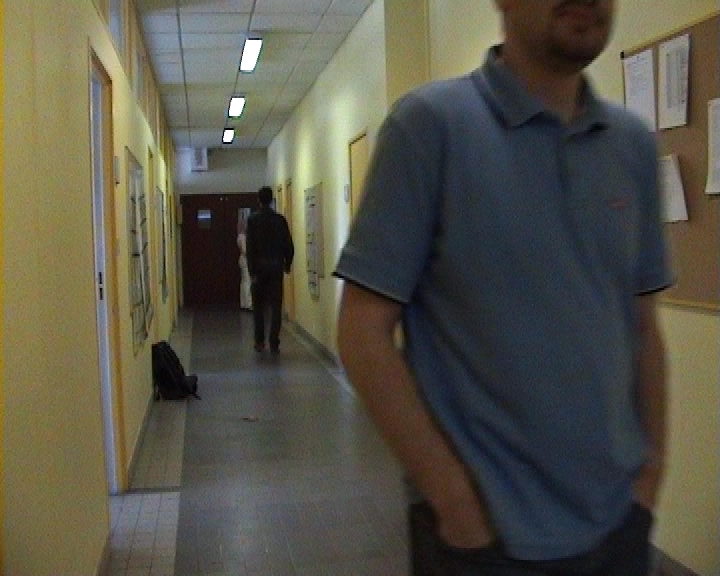leave bag unattended: (120, 333, 201, 434)
